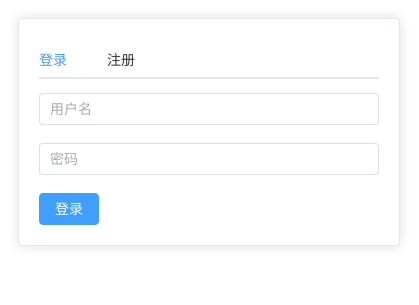
Test: 登录失败(401)就地显示错误
Type "alice" into the field with placeholder "用户名" at (209, 109), box [50, 94, 368, 124]
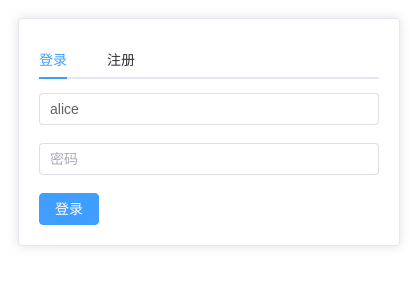
Type "bad" into the password field with placeholder "密码" at (209, 159), box [50, 144, 368, 174]
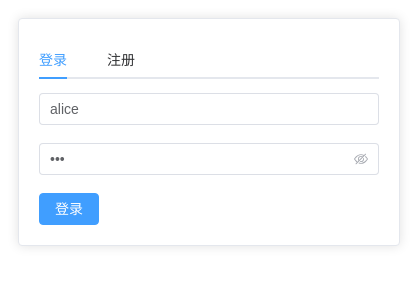
Click the button "登录" at (69, 209), box [39, 193, 99, 225]
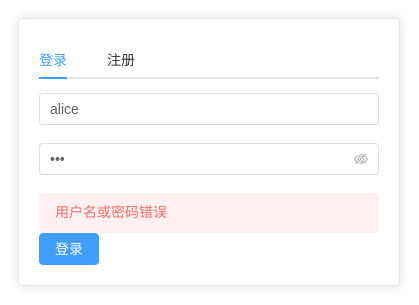
Expected: the text "用户名或密码错误" is shown, [55, 201, 167, 225]
